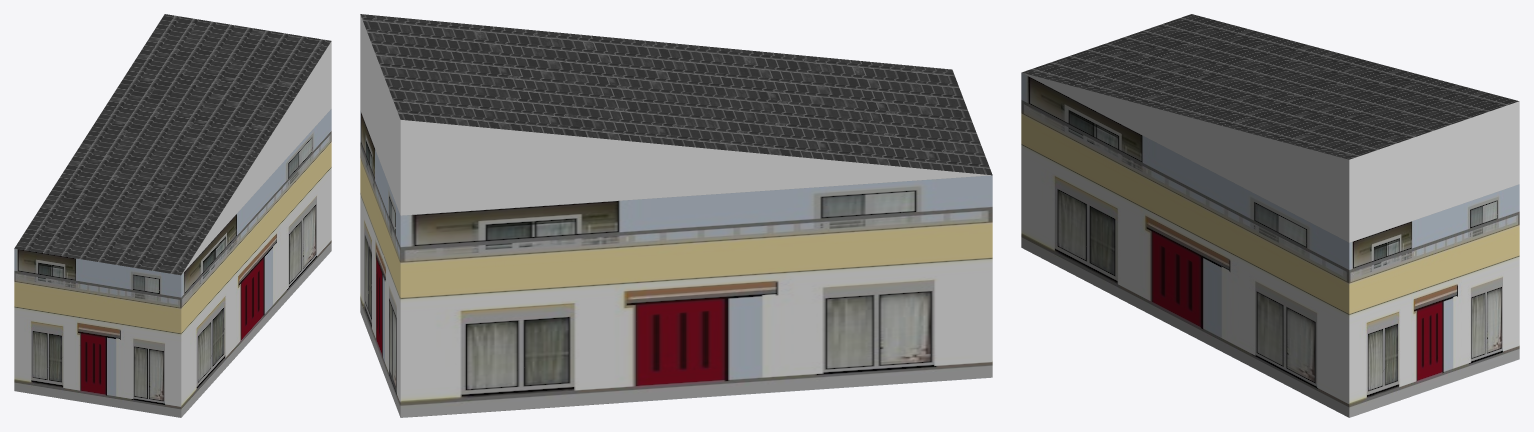
3 views of the same model, side by side, from view 1: azimuth 30°, elevation 25°; view 2: azimuth 150°, elevation 25°; view 3: azimuth 270°, elevation 25° (orthographic). The views are drawn at different scales.
Parts seen in each view (by area): view 1: CityEngineMaterial_15_m, CityEngineMaterial_16_m, CityEngineMaterial_3_m; view 2: CityEngineMaterial_15_m, CityEngineMaterial_16_m, CityEngineMaterial_3_m; view 3: CityEngineMaterial_15_m, CityEngineMaterial_16_m, CityEngineMaterial_3_m.
Boxes of the visible parts, x1,y1,x2,y2 form: CityEngineMaterial_15_m: [14, 109, 331, 417]; CityEngineMaterial_16_m: [14, 14, 331, 275]; CityEngineMaterial_3_m: [182, 41, 331, 273]; CityEngineMaterial_15_m: [360, 110, 992, 417]; CityEngineMaterial_16_m: [360, 14, 992, 175]; CityEngineMaterial_3_m: [360, 15, 990, 215]; CityEngineMaterial_15_m: [1021, 72, 1519, 417]; CityEngineMaterial_16_m: [1022, 14, 1518, 159]; CityEngineMaterial_3_m: [1022, 72, 1519, 242].
Bounding box in the file's own units: 22.57 × 11.88 × 20.76.
